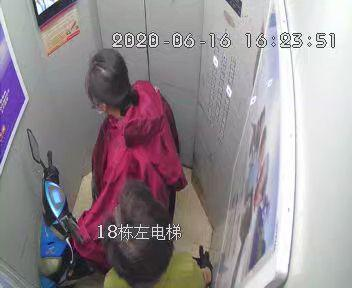Electric-bicycle: (25, 127, 104, 285)
